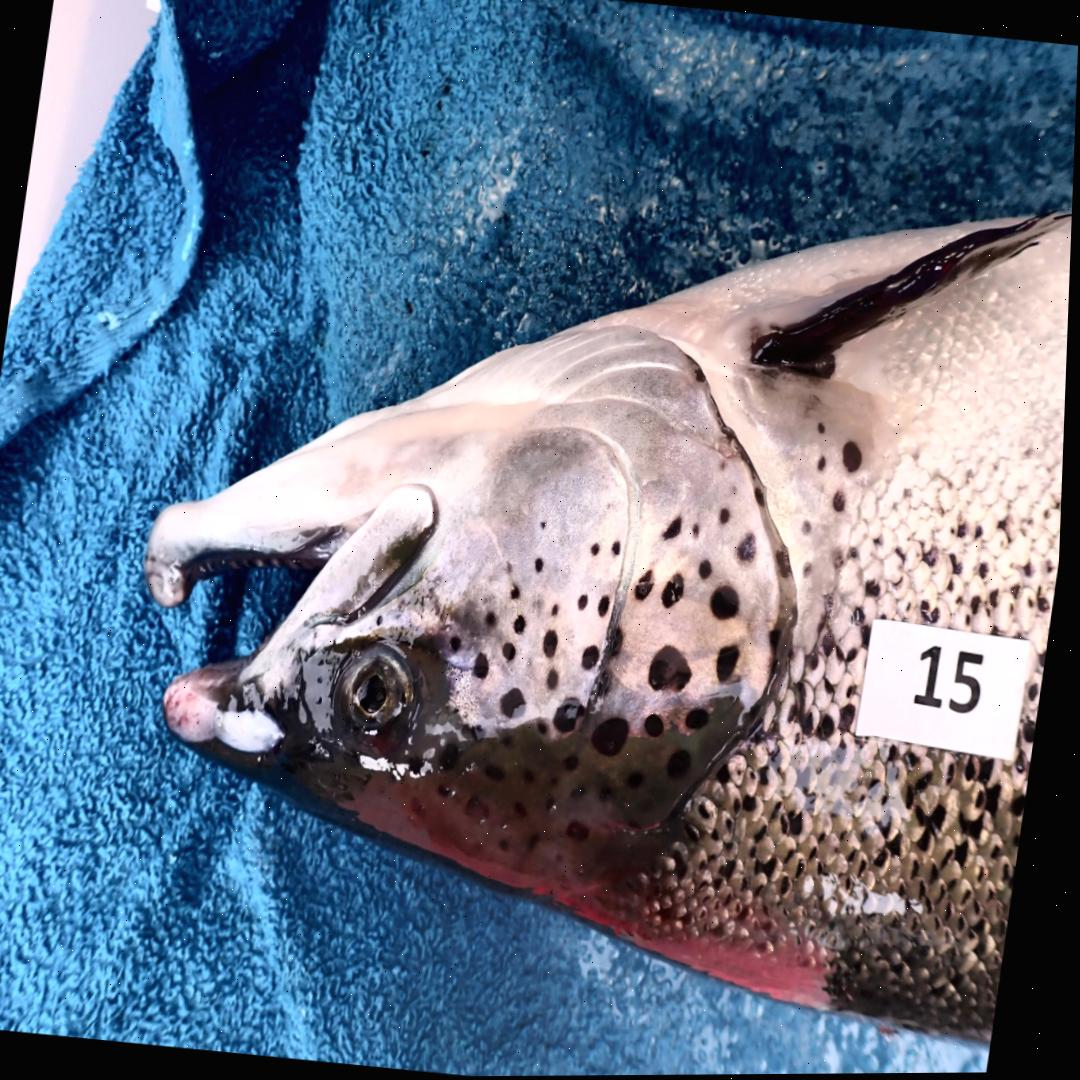spot: (653, 647, 697, 693), (597, 719, 635, 758), (559, 698, 591, 735), (714, 586, 746, 622), (721, 647, 745, 684), (666, 576, 689, 610), (505, 689, 530, 718), (639, 571, 659, 602), (741, 534, 761, 563), (691, 708, 715, 731), (649, 715, 671, 739), (614, 628, 629, 659), (548, 630, 564, 659), (587, 646, 605, 671), (602, 673, 617, 701), (478, 655, 494, 681), (668, 518, 685, 541), (489, 609, 504, 629), (774, 631, 786, 656), (552, 670, 565, 691), (507, 643, 522, 661), (518, 615, 531, 635), (703, 561, 717, 579), (602, 598, 614, 618), (759, 487, 770, 507), (455, 637, 467, 652), (724, 509, 734, 526), (542, 720, 553, 735), (695, 523, 706, 538), (722, 459, 734, 472), (583, 595, 593, 610), (616, 541, 626, 556), (539, 559, 548, 574), (595, 545, 604, 557), (557, 604, 564, 619), (516, 589, 525, 600), (510, 563, 517, 576), (381, 615, 388, 627), (545, 520, 551, 531)
